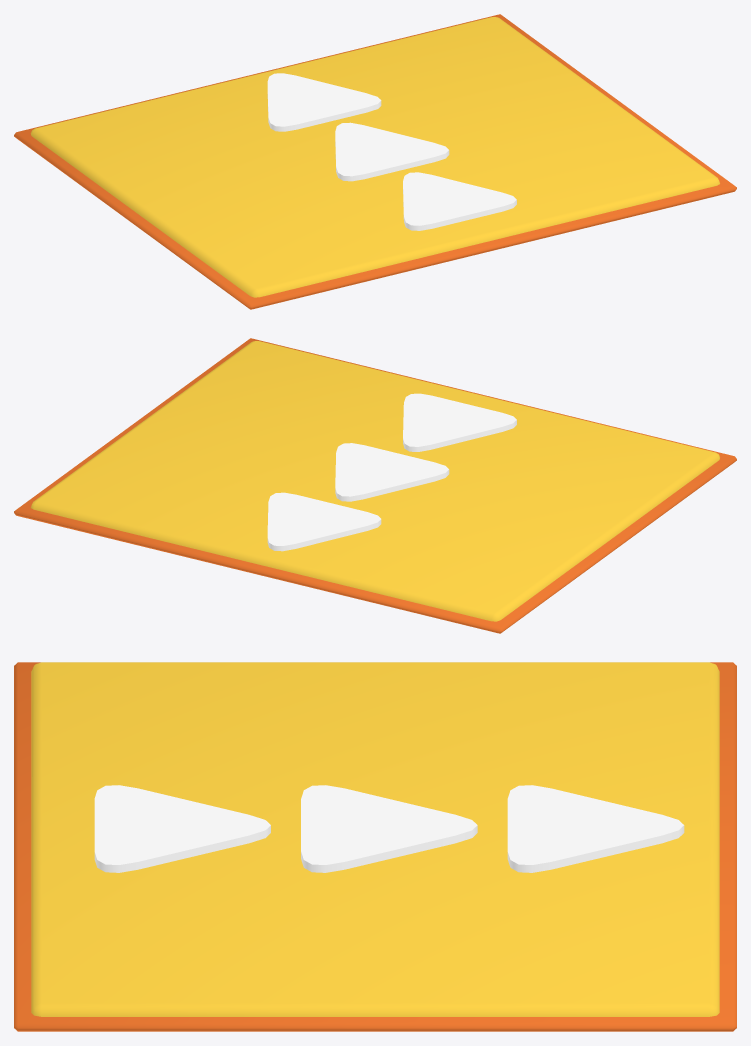
The model's file is boost_pad.glb.
3 views of the same model, one above another, from view 1: azimuth 30°, elevation 25°; view 2: azimuth 150°, elevation 25°; view 3: azimuth 270°, elevation 25° (orthographic). The views are drawn at different scales.
Visible parts, largest first — view 1: boost_pad; view 2: boost_pad; view 3: boost_pad.
Boxes of the visible parts, x1,y1,x2,y2 form: boost_pad: (14, 14, 736, 309); boost_pad: (14, 338, 736, 633); boost_pad: (14, 662, 736, 1031).
Bounding box in the file's own units: 2.5 × 0.085 × 2.1.
Materials: 1 (1 with a texture image).
